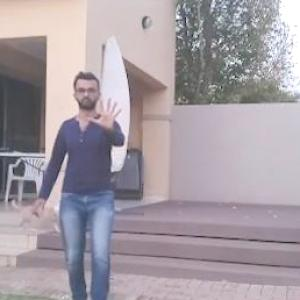follow_hand: (84, 92, 126, 138)
